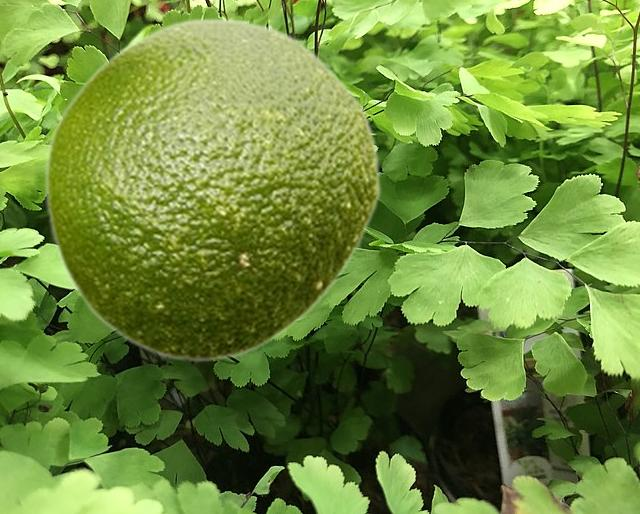calamansi: (43, 16, 380, 363)
